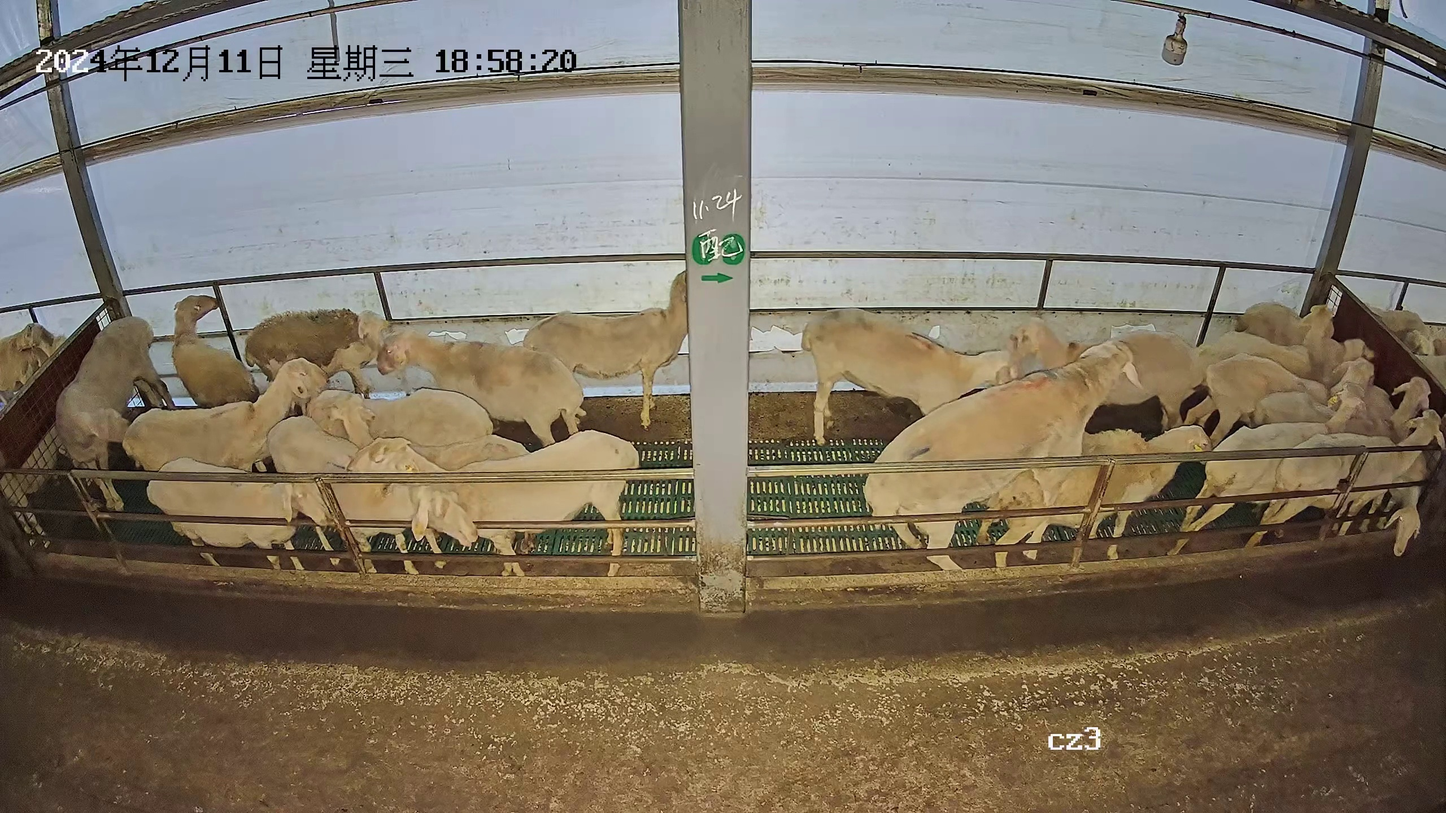Smounting: (861, 338, 1216, 572)
mounted: (975, 421, 1212, 567)
